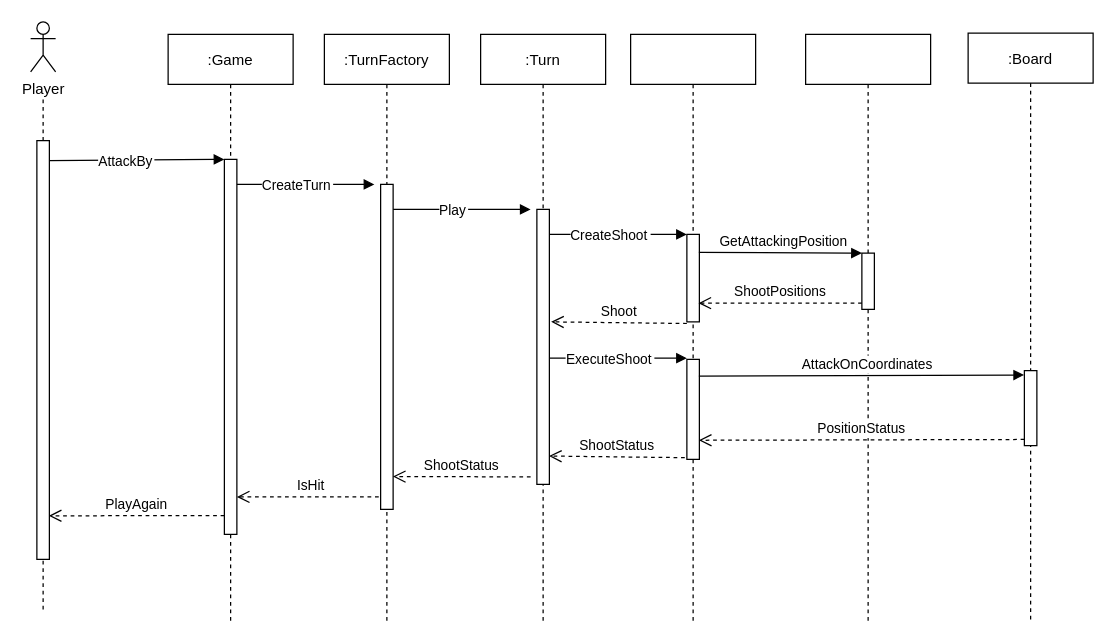
This 1115x644 diagram has some shape labels left out. Here are the shapes that lost their labels. From the top down, the centre of each, then its label:
pixel 692 327: :Shoot
pixel 867 327: :ShootingStrategy
